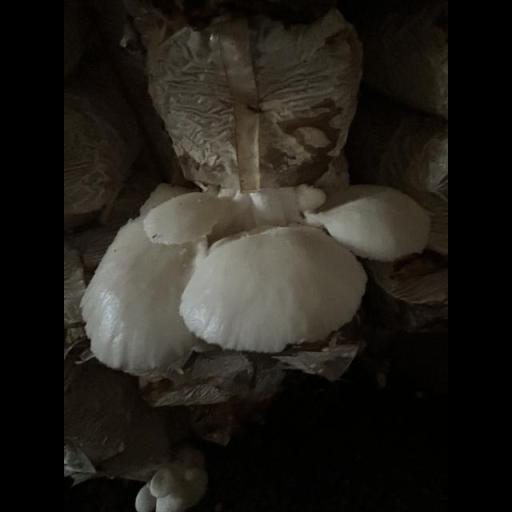White Oyster Mushroom: (80, 170, 428, 379), (136, 449, 210, 511)
